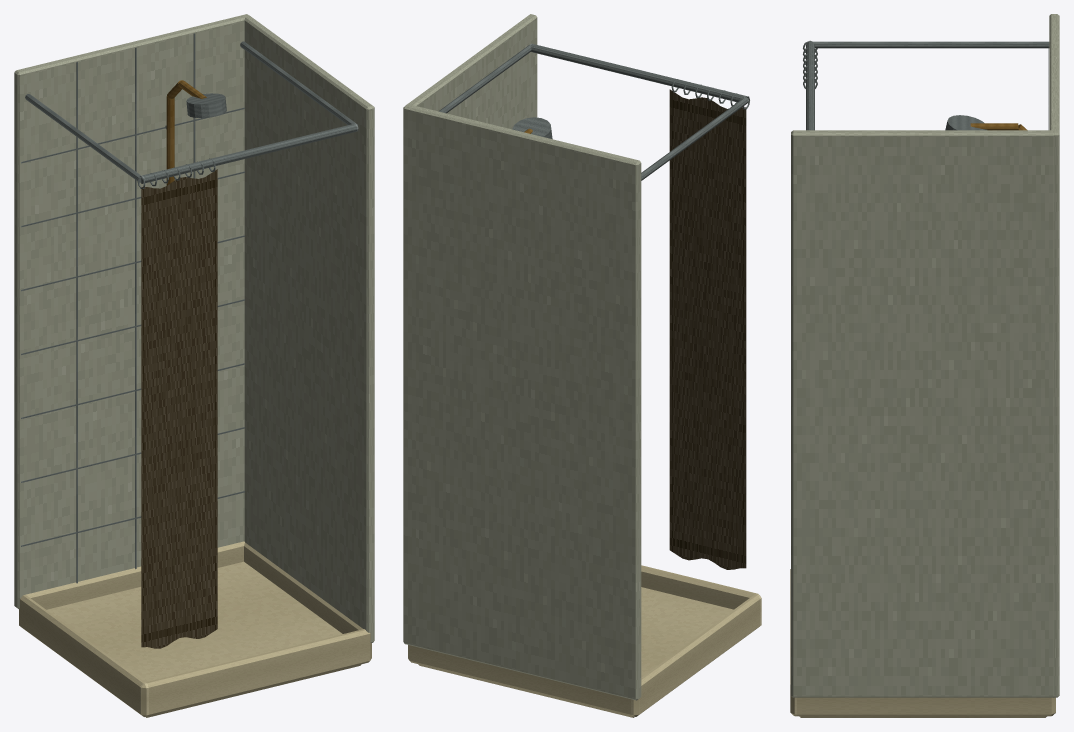
Rendered from level_bath_shower.glb.
3 views of the same model, side by side, from view 1: azimuth 30°, elevation 25°; view 2: azimuth 150°, elevation 25°; view 3: azimuth 270°, elevation 25° (orthographic). The views are drawn at different scales.
Visible parts, largest first — view 1: level_bath_shower; view 2: level_bath_shower; view 3: level_bath_shower.
Boxes of the visible parts, x1,y1,x2,y2 form: level_bath_shower: [14, 14, 374, 717]; level_bath_shower: [403, 14, 761, 717]; level_bath_shower: [790, 14, 1059, 717].
Bounding box in the file's own units: 0.9615 × 2.19 × 0.907.
5 materials, 5 textured.
